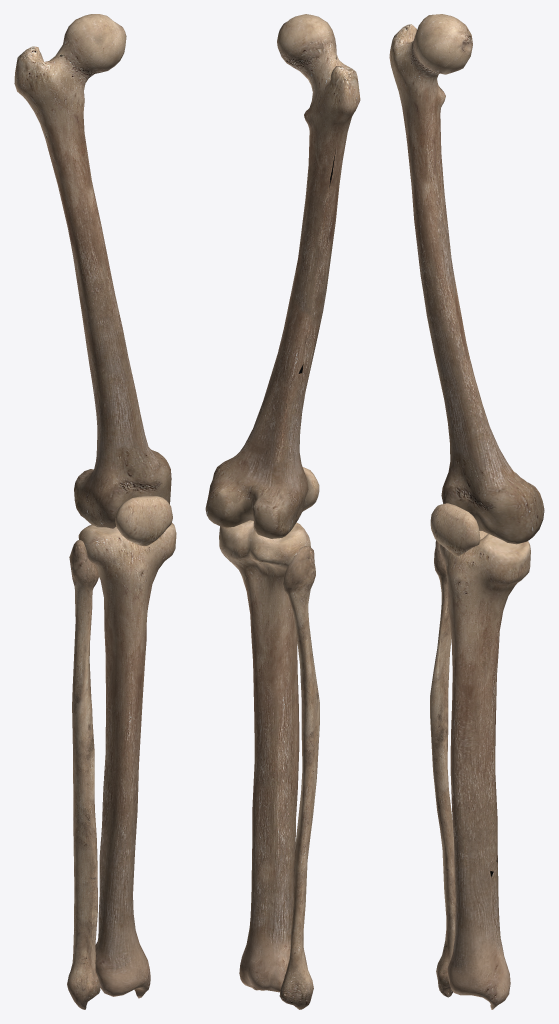
Rendered from Legs.003.obj.
The picture shows the model from 3 angles, left to right: view 1: azimuth 30°, elevation 25°; view 2: azimuth 150°, elevation 25°; view 3: azimuth 330°, elevation 25°; orthographic projection.
Visible parts, largest first — view 1: Legs.003_Arms.139; view 2: Legs.003_Arms.139; view 3: Legs.003_Arms.139.
Boxes of the visible parts, x1,y1,x2,y2 form: Legs.003_Arms.139: (14, 14, 176, 1009); Legs.003_Arms.139: (205, 14, 360, 1009); Legs.003_Arms.139: (389, 14, 544, 1009).
Size of the model in its own units: 0.7338 by 4.75 by 0.4693.
